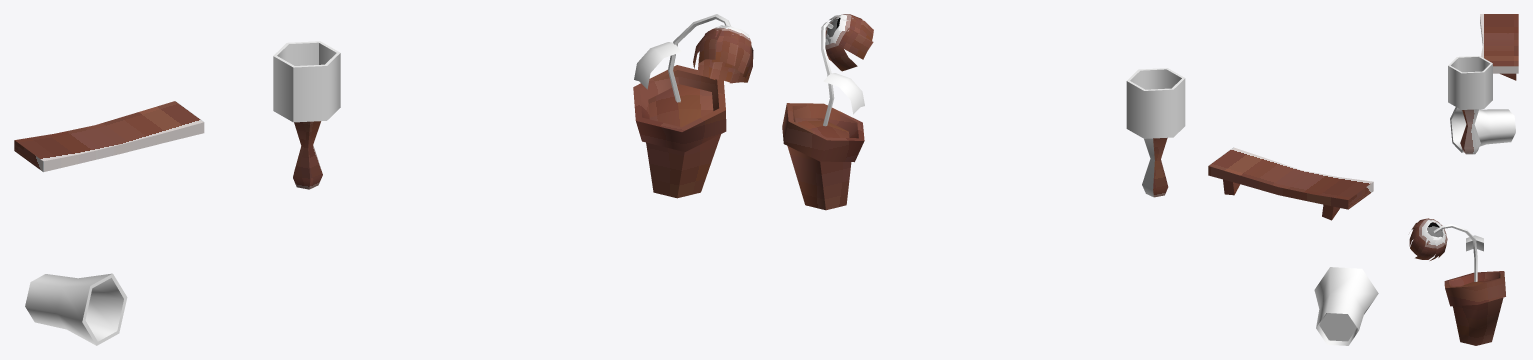
Rendered from PropsA.fbx.
3 views of the same model, side by side, from view 1: azimuth 30°, elevation 25°; view 2: azimuth 150°, elevation 25°; view 3: azimuth 270°, elevation 25° (orthographic). The views are drawn at different scales.
Visible parts, largest first — view 1: polymsh; view 2: polymsh; view 3: polymsh.
Boxes of the visible parts, box(x1,y1,x2,y2) form: polymsh: box(14, 14, 753, 345); polymsh: box(782, 14, 1378, 345); polymsh: box(1409, 14, 1518, 345).
Size of the model in its own units: 13.21 by 4.21 by 2.79.
